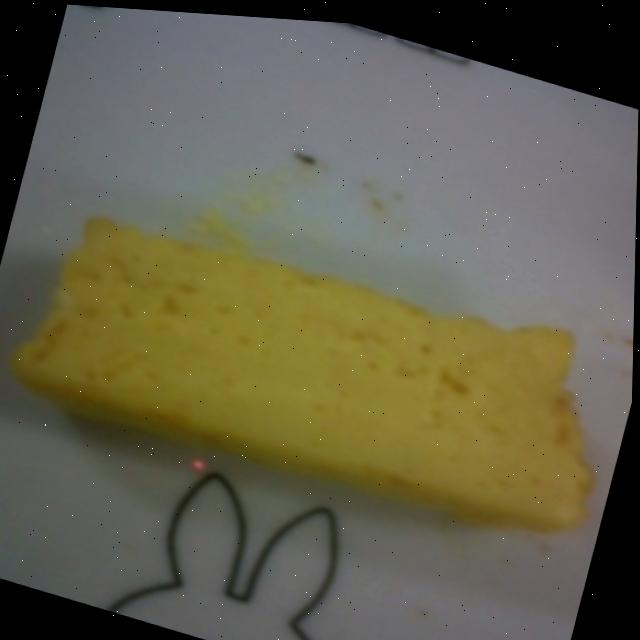鸡蛋料理: (0, 163, 624, 567)
